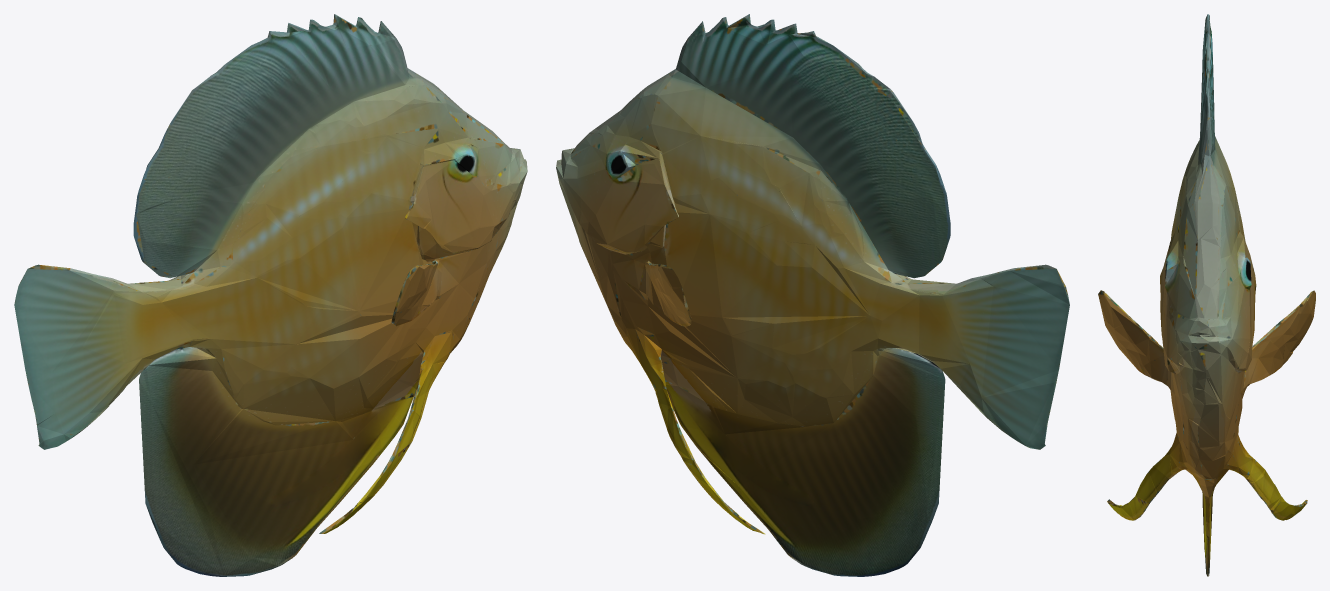
File: fish_0045_smpl23_resized.glb
3 renders of one model, left to right at view 1: azimuth 30°, elevation 25°; view 2: azimuth 150°, elevation 25°; view 3: azimuth 270°, elevation 25°, orthographic. The views are drawn at different scales.
Visible parts, largest first — view 1: world; view 2: world; view 3: world.
Boxes of the visible parts, left/top/right/bottom form: world: left=14, top=14, right=527, bottom=576; world: left=556, top=14, right=1069, bottom=576; world: left=1098, top=14, right=1315, bottom=576.
Size of the model in its own units: 1.96 by 1.98 by 0.6971.
Materials: 1 (1 with a texture image).
